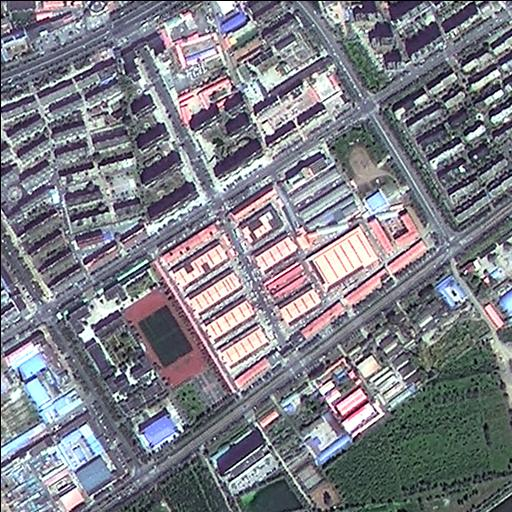school: (52, 251, 234, 455)
